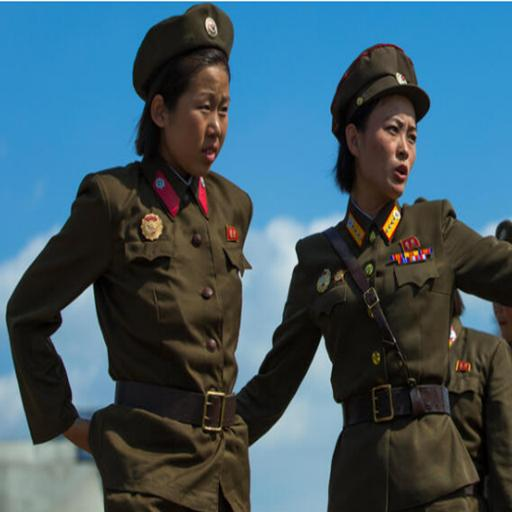north army: (92, 7, 495, 512)
